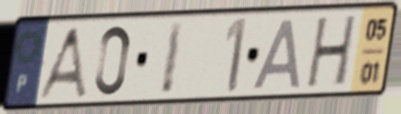0: (93, 24, 132, 98)
1: (223, 15, 249, 97)
A: (33, 24, 90, 102), (250, 16, 304, 92)
H: (303, 12, 360, 92)
I: (157, 18, 187, 98)
